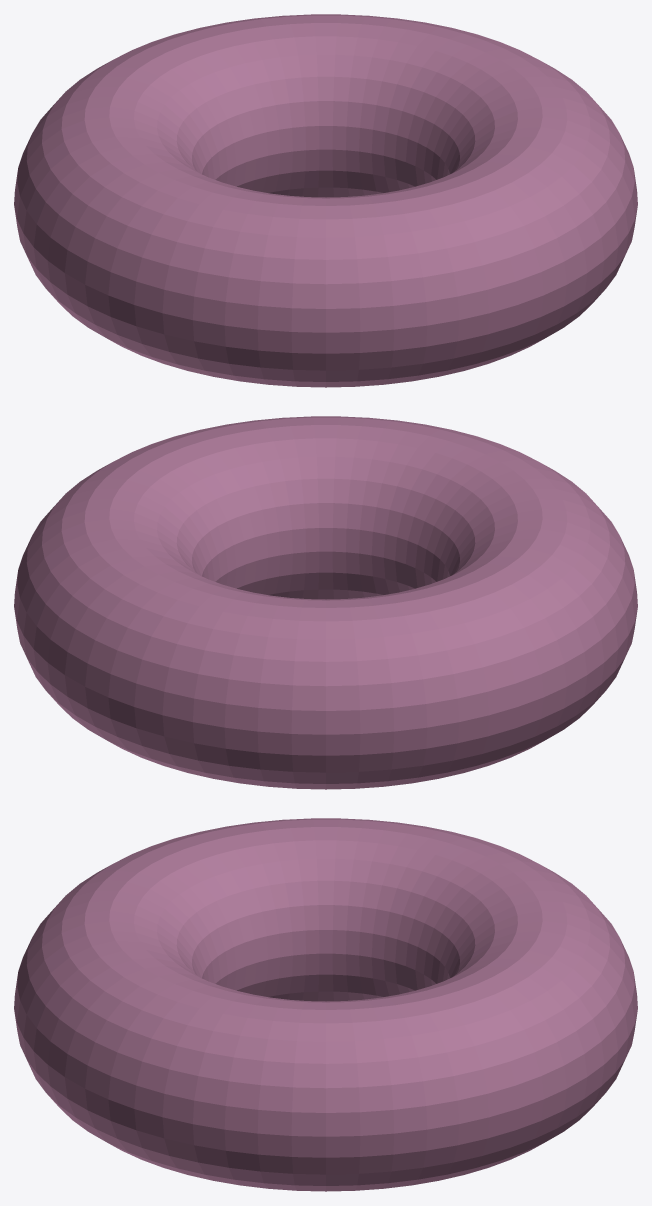
The picture shows the model from 3 angles, top to bottom: view 1: azimuth 30°, elevation 25°; view 2: azimuth 150°, elevation 25°; view 3: azimuth 270°, elevation 25°; orthographic projection.
Parts seen in each view (by area): view 1: Torus; view 2: Torus; view 3: Torus.
Boxes of the visible parts, bbox=[...] form: Torus: bbox=[14, 14, 637, 387]; Torus: bbox=[14, 416, 637, 789]; Torus: bbox=[14, 818, 637, 1191].
Bounding box in the file's own units: 4.8 × 1.47 × 4.8.
